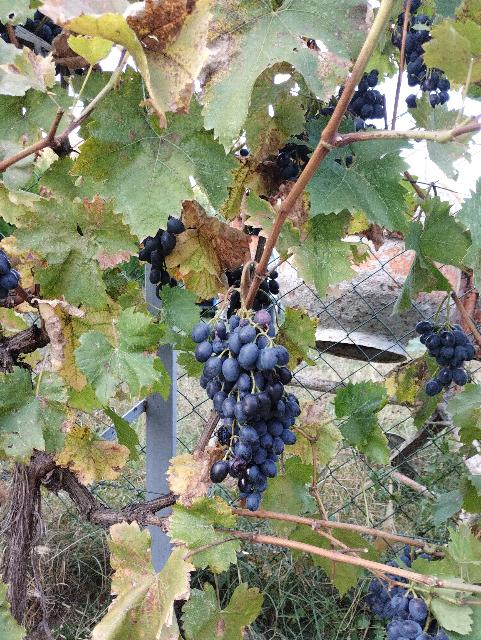grapes: (192, 310, 301, 510), (416, 320, 476, 396)
